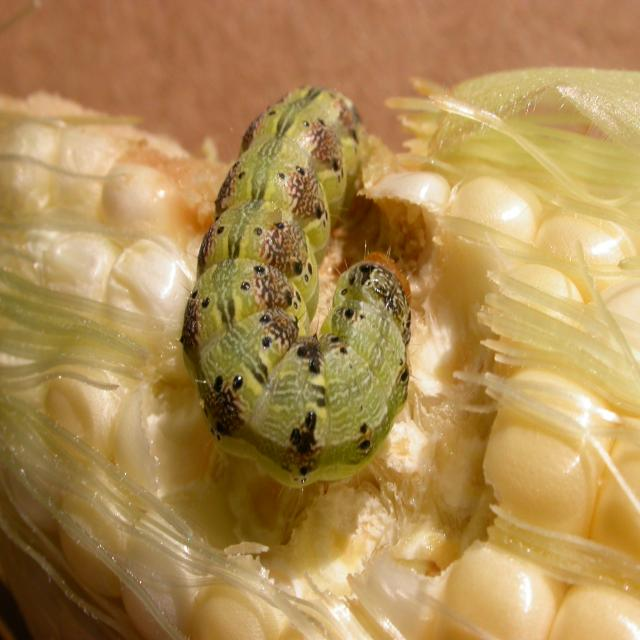Corn-earworm: (188, 72, 412, 481)
